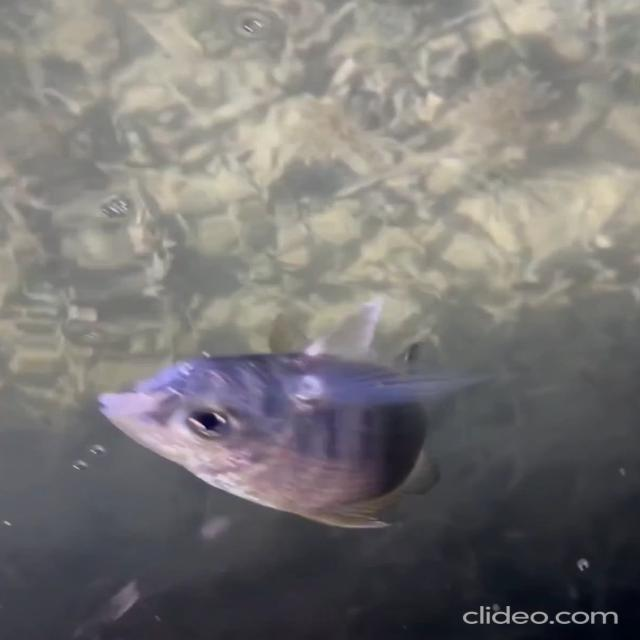fish: (88, 298, 466, 550)
